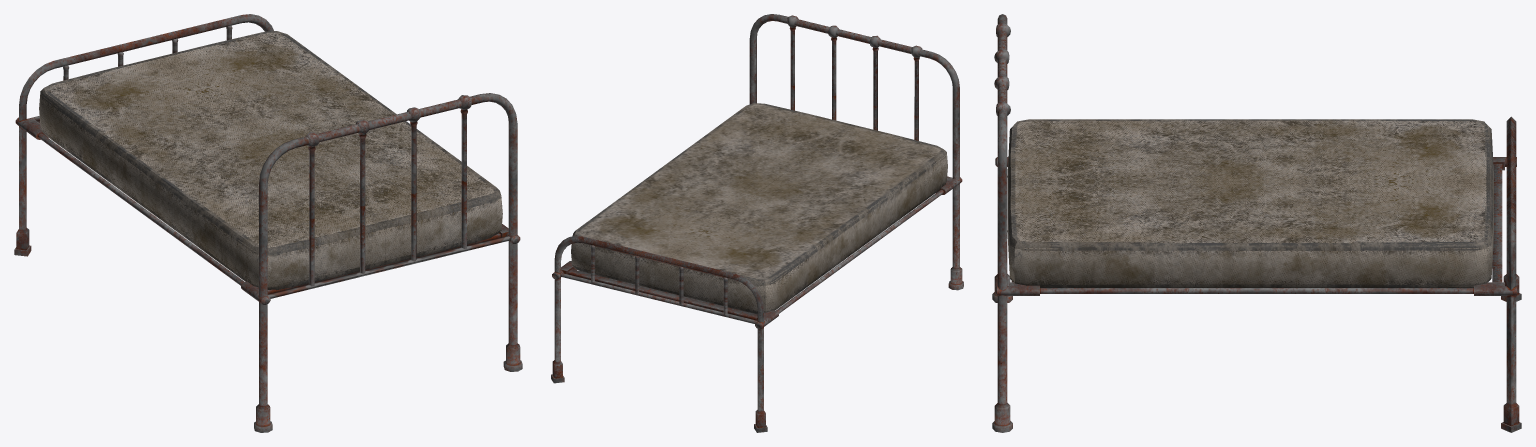
File: old_abandoned_hospital_bed.glb
3 views of the same model, side by side, from view 1: azimuth 30°, elevation 25°; view 2: azimuth 150°, elevation 25°; view 3: azimuth 270°, elevation 25° (orthographic). The views are drawn at different scales.
Parts seen in each view (by area): view 1: Cube.001; view 2: Cube.001; view 3: Cube.001.
Boxes of the visible parts, x1,y1,x2,y2 form: Cube.001: (14, 14, 522, 432); Cube.001: (551, 14, 963, 432); Cube.001: (992, 14, 1521, 432).
Bounding box in the file's own units: 1.28 × 1.3 × 2.08.
1 material, 1 textured.
